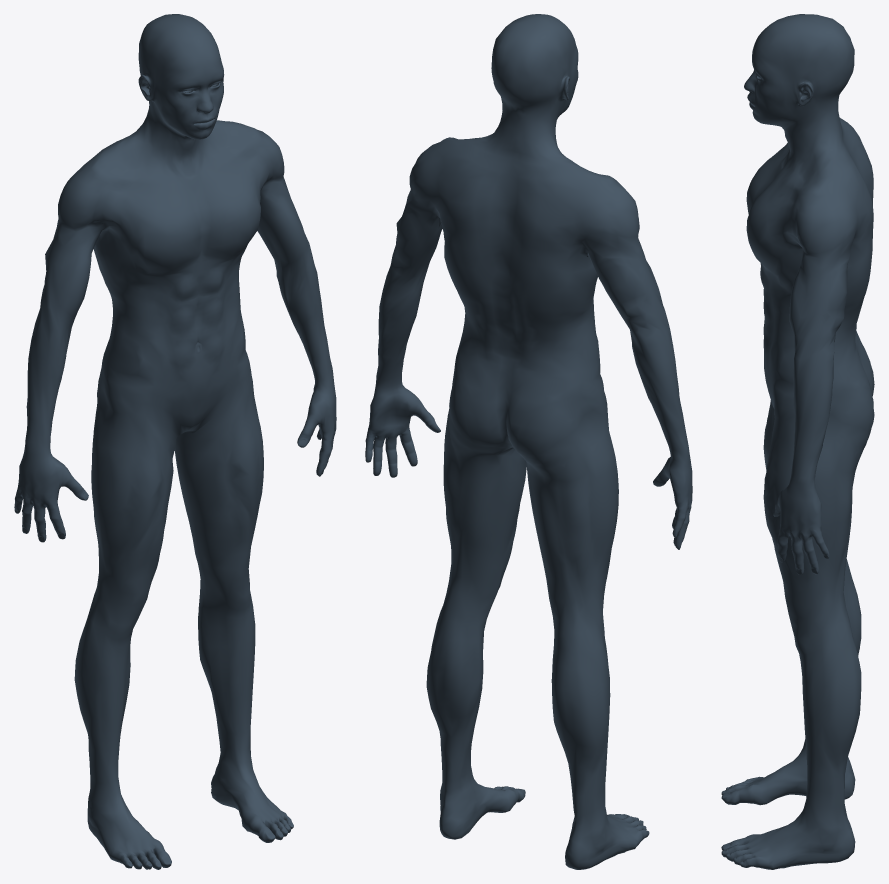
File: twin-anatomy-sculpt-candidate.glb
3 views of the same model, side by side, from view 1: azimuth 30°, elevation 25°; view 2: azimuth 150°, elevation 25°; view 3: azimuth 270°, elevation 25° (orthographic).
Visible parts, largest first — view 1: twin-region:legs, twin-region:neutral, twin-region:arms, twin-region:shoulders, twin-region:chest, twin-region:core, twin-region:abs; view 2: twin-region:legs, twin-region:neutral, twin-region:back, twin-region:glutes, twin-region:arms, twin-region:shoulders, twin-region:core; view 3: twin-region:neutral, twin-region:legs, twin-region:arms, twin-region:shoulders, twin-region:back, twin-region:glutes, twin-region:chest, twin-region:core, twin-region:abs.
Part boxes in pixels (bbox=[...]): twin-region:legs: bbox=[74, 382, 263, 796]; twin-region:neutral: bbox=[14, 14, 336, 869]; twin-region:arms: bbox=[25, 192, 332, 448]; twin-region:shoulders: bbox=[55, 122, 288, 255]; twin-region:chest: bbox=[109, 176, 260, 282]; twin-region:core: bbox=[99, 252, 245, 388]; twin-region:abs: bbox=[159, 262, 232, 383]; twin-region:legs: bbox=[426, 410, 618, 824]; twin-region:neutral: bbox=[365, 14, 692, 869]; twin-region:back: bbox=[433, 149, 590, 382]; twin-region:glutes: bbox=[444, 349, 592, 491]; twin-region:arms: bbox=[375, 203, 689, 461]; twin-region:shoulders: bbox=[406, 137, 644, 276]; twin-region:core: bbox=[573, 275, 600, 386]; twin-region:neutral: bbox=[721, 14, 857, 869]; twin-region:legs: bbox=[763, 400, 861, 819]; twin-region:arms: bbox=[789, 263, 847, 489]; twin-region:shoulders: bbox=[757, 143, 860, 276]; twin-region:back: bbox=[833, 129, 873, 376]; twin-region:glutes: bbox=[826, 333, 874, 484]; twin-region:chest: bbox=[746, 154, 802, 284]; twin-region:core: bbox=[765, 271, 794, 389]; twin-region:abs: bbox=[760, 263, 773, 374].
Size of the model in its own units: 0.7525 by 1.85 by 0.3163.
